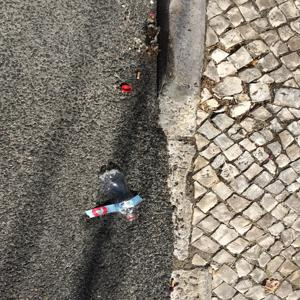plastic: (82, 193, 147, 219), (119, 81, 133, 92)
plastic bottle: (100, 164, 140, 223)
